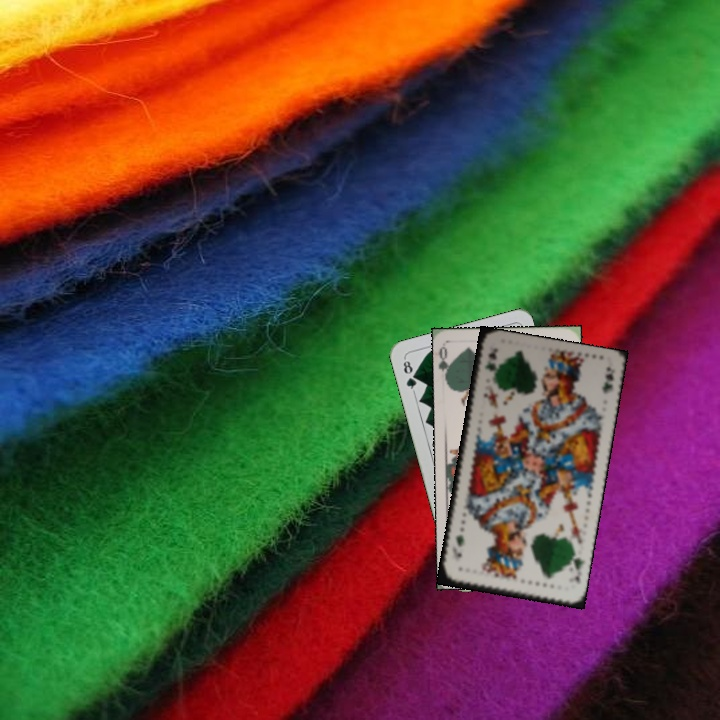G8: (399, 355, 419, 395)
GK: (566, 549, 587, 585), (481, 345, 500, 374)
GO: (436, 343, 456, 384)
